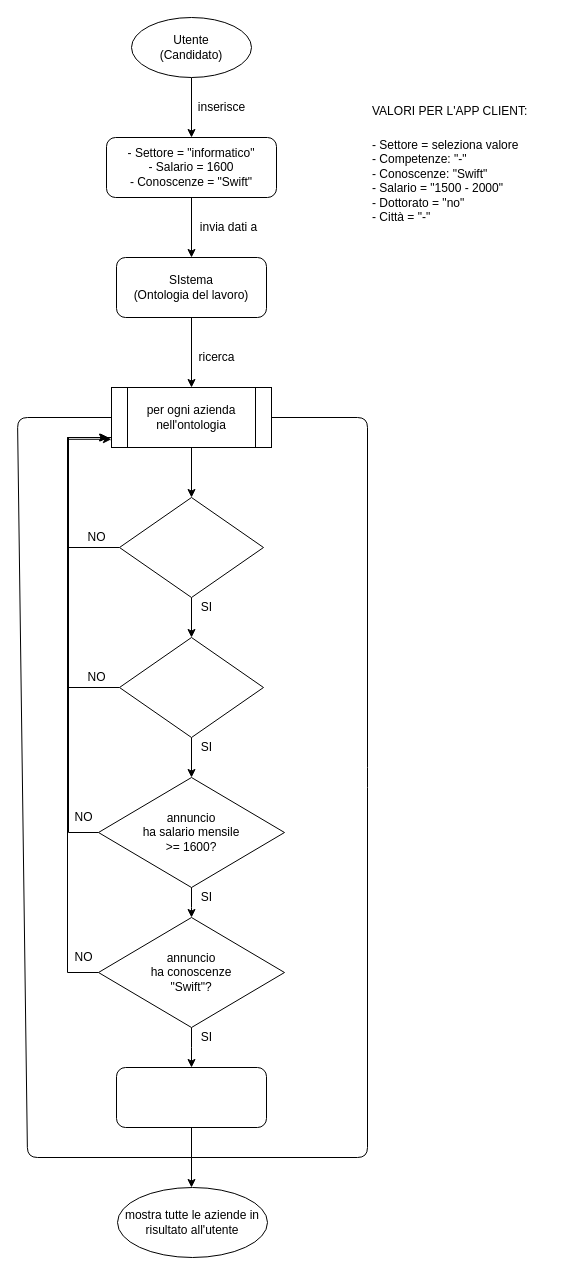
This 575x1275 diagram has some shape labels left out. Here are the shapes that lost their labels. From the top down, the centre of each, then its label:
(191,547): azienda ha settore "Informatico"?
(191,687): azienda pubblica annuncio?
(191,1097): aggiungi azienda al risultato
